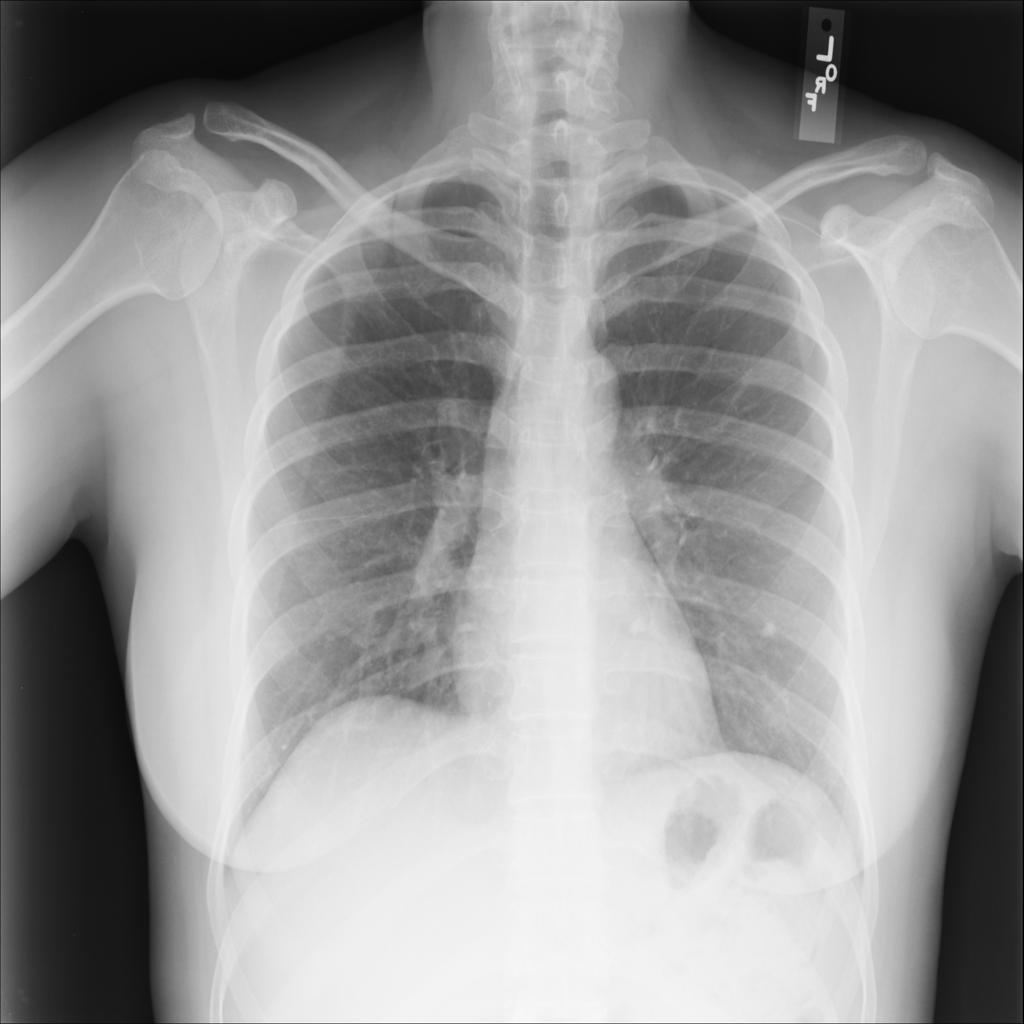nodule: (746, 603, 794, 657)
